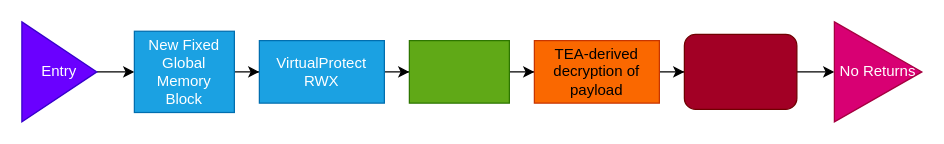
Some shapes in this 944 by 144 pixel diagram are drawn without their labels. The shapes that lost their labels are listed below. From the top down, each one's box as (x1, y1, x2, y2) in pixels, then its label:
(408, 39, 509, 103): Copy Encrypted Payload Loop
(683, 33, 797, 109): Execution
